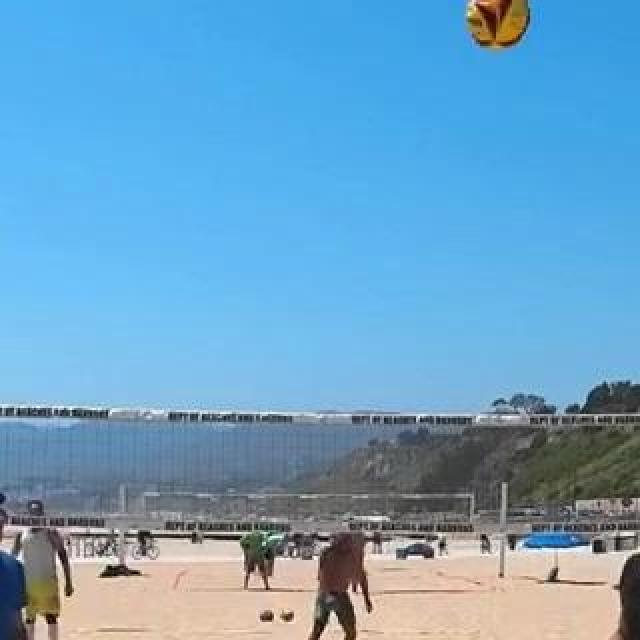volleyball: (464, 0, 532, 48), (259, 608, 273, 622), (281, 608, 295, 622)
